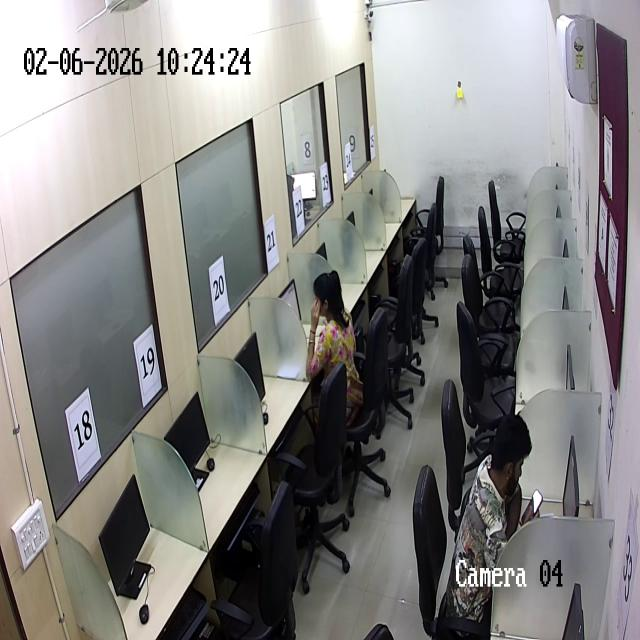phone: (521, 488, 543, 525)
